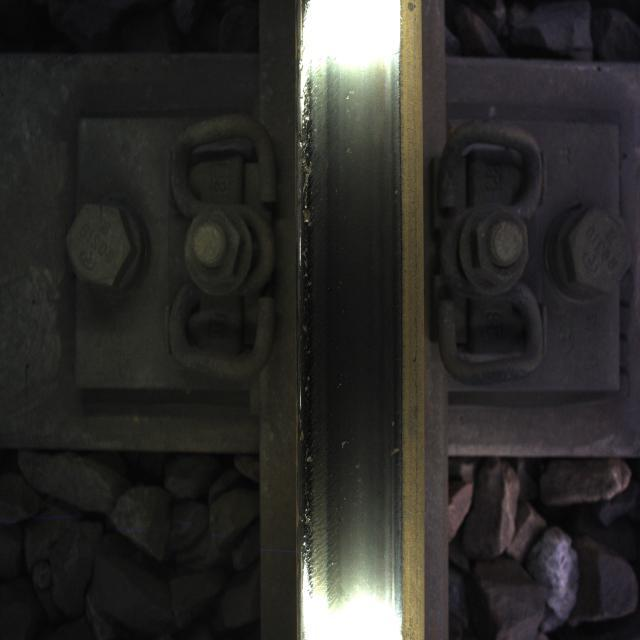normal: (300, 3, 370, 605)
